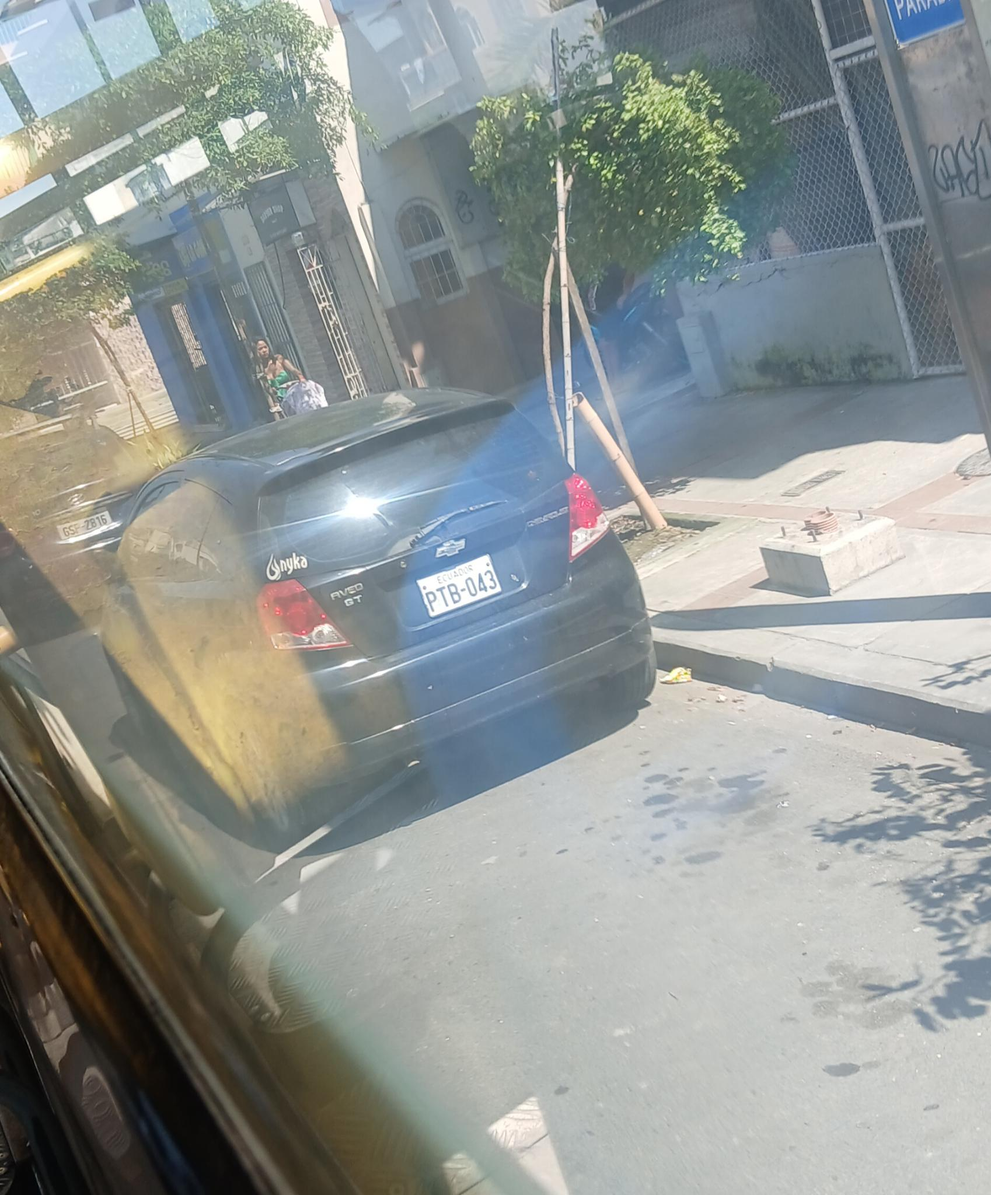license_plate: (415, 555, 502, 618), (55, 510, 113, 542)
